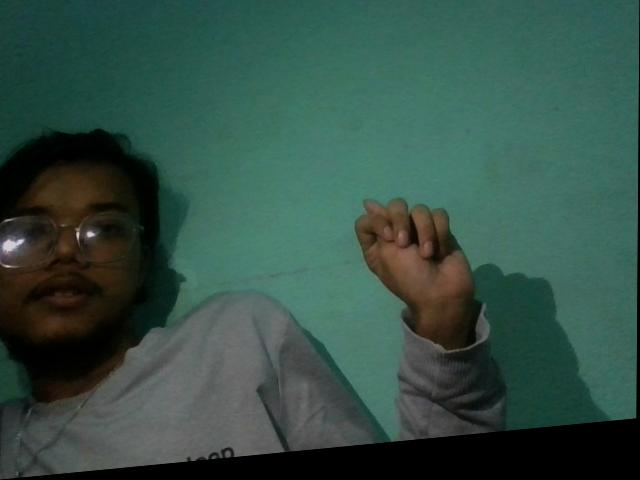Washroom: (337, 179, 495, 361)
